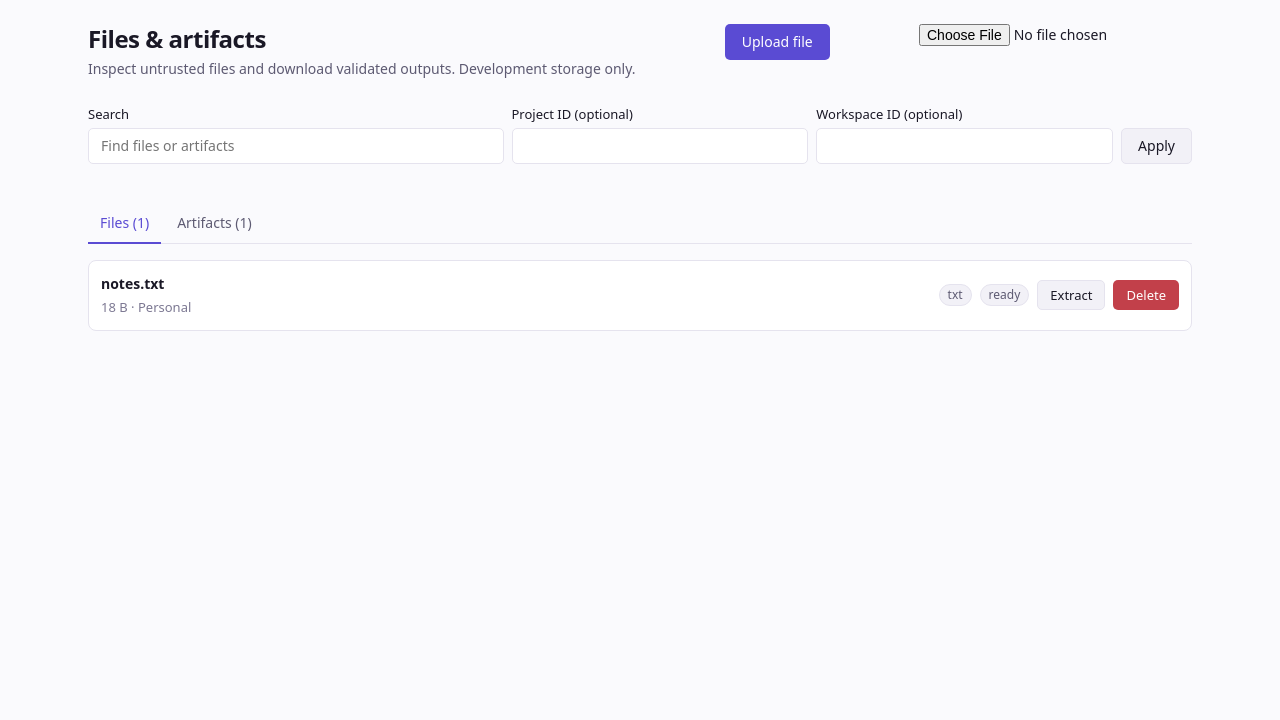
Scenario: FilesPage › lists files and previews untrusted HTML as text only
Click the button "notes.txt 18 B · Personal": (133, 283) [101,272,931,318]
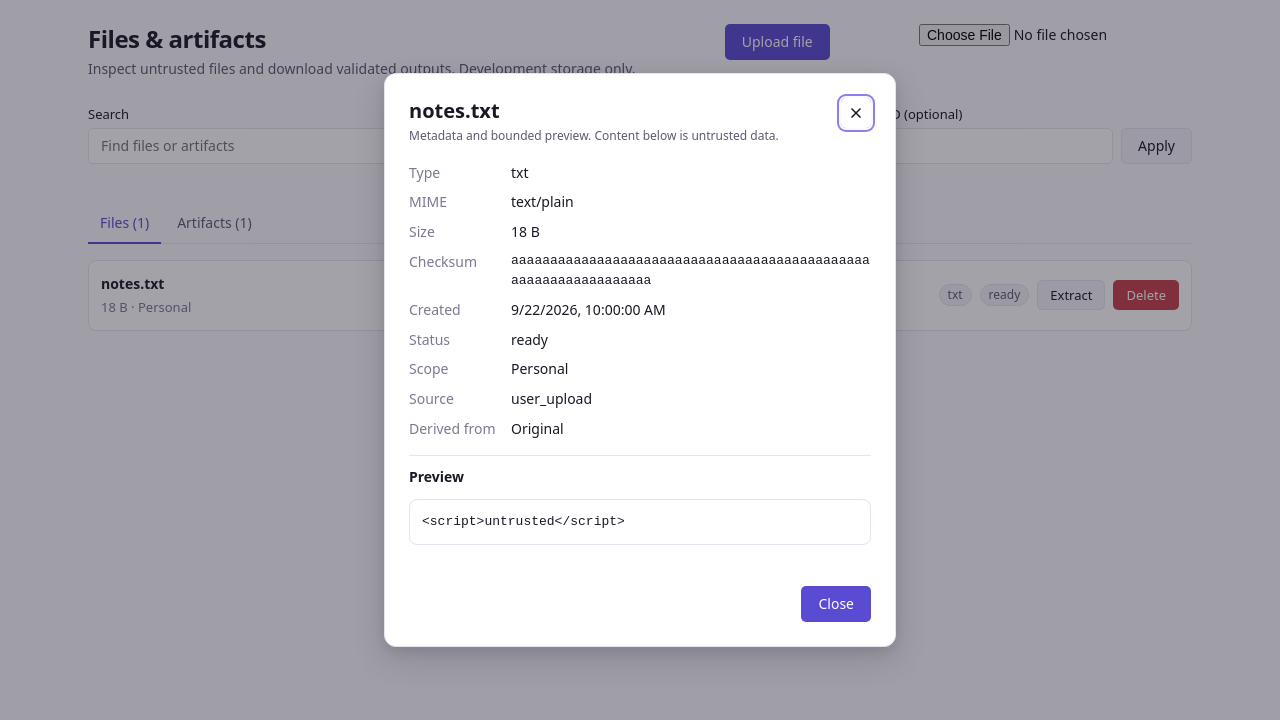
Expected: the dialog is shown, [384,73,896,647]
